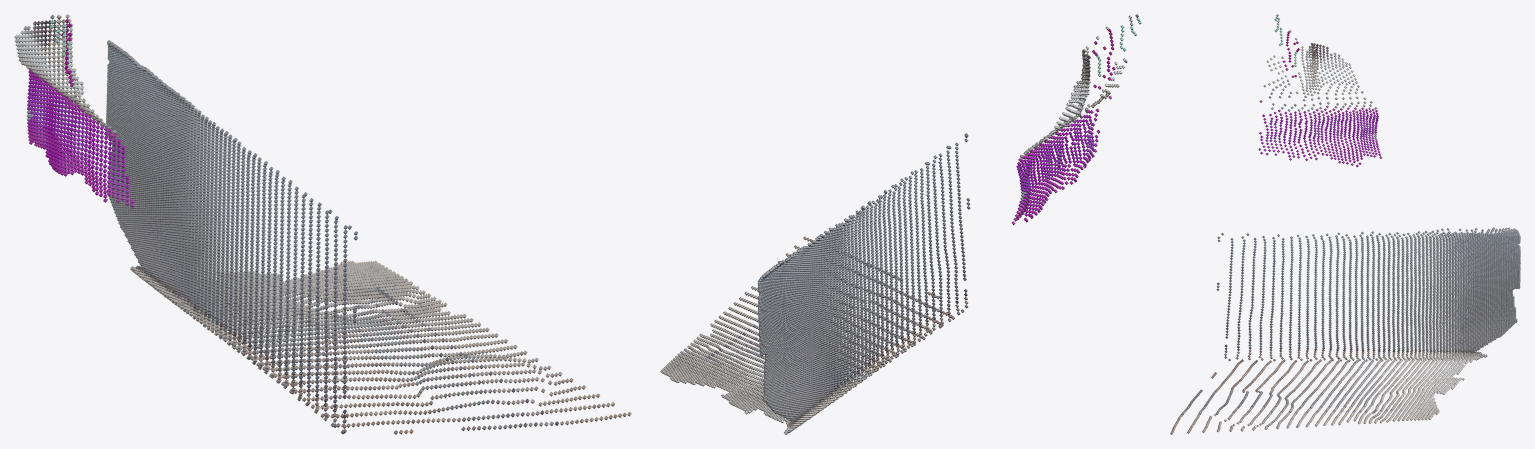
Rendered from combine_gt.glb.
3 views of the same model, side by side, from view 1: azimuth 30°, elevation 25°; view 2: azimuth 150°, elevation 25°; view 3: azimuth 270°, elevation 25° (orthographic). The views are drawn at different scales.
Visible parts, largest first — view 1: world; view 2: world; view 3: world.
Part boxes in pixels (box(x1,y1,x2,y2)): world: box(14, 14, 631, 434); world: box(660, 14, 1141, 434); world: box(1170, 14, 1520, 434).
Size of the model in its own units: 6.27 by 5.53 by 6.36.
